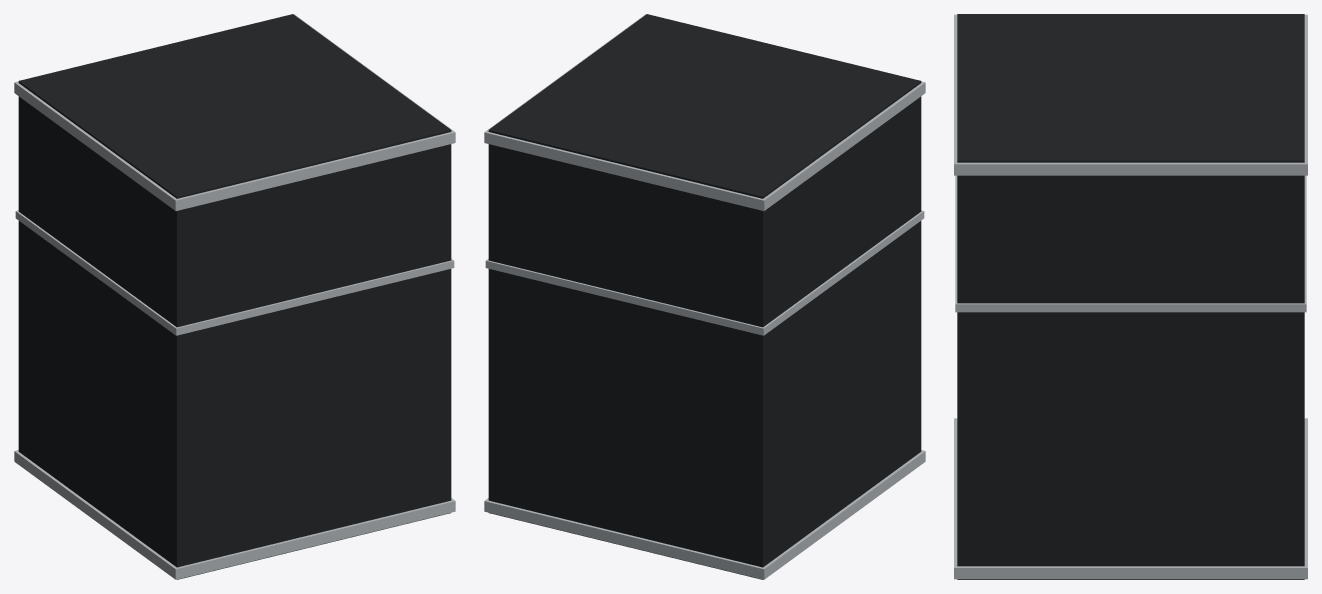
File: lwf_backstage_flight_case_tall_v1.glb
3 renders of one model, left to right at view 1: azimuth 30°, elevation 25°; view 2: azimuth 150°, elevation 25°; view 3: azimuth 270°, elevation 25°, orthographic. The views are drawn at different scales.
Visible parts, largest first — view 1: LWF_FlightCaseTall; view 2: LWF_FlightCaseTall; view 3: LWF_FlightCaseTall.
Boxes of the visible parts, x1,y1,x2,y2 form: LWF_FlightCaseTall: [14, 14, 455, 579]; LWF_FlightCaseTall: [484, 14, 925, 579]; LWF_FlightCaseTall: [954, 14, 1307, 579].
Size of the model in its own units: 0.612 by 0.8 by 0.612.
Materials: 1 (1 with a texture image).
